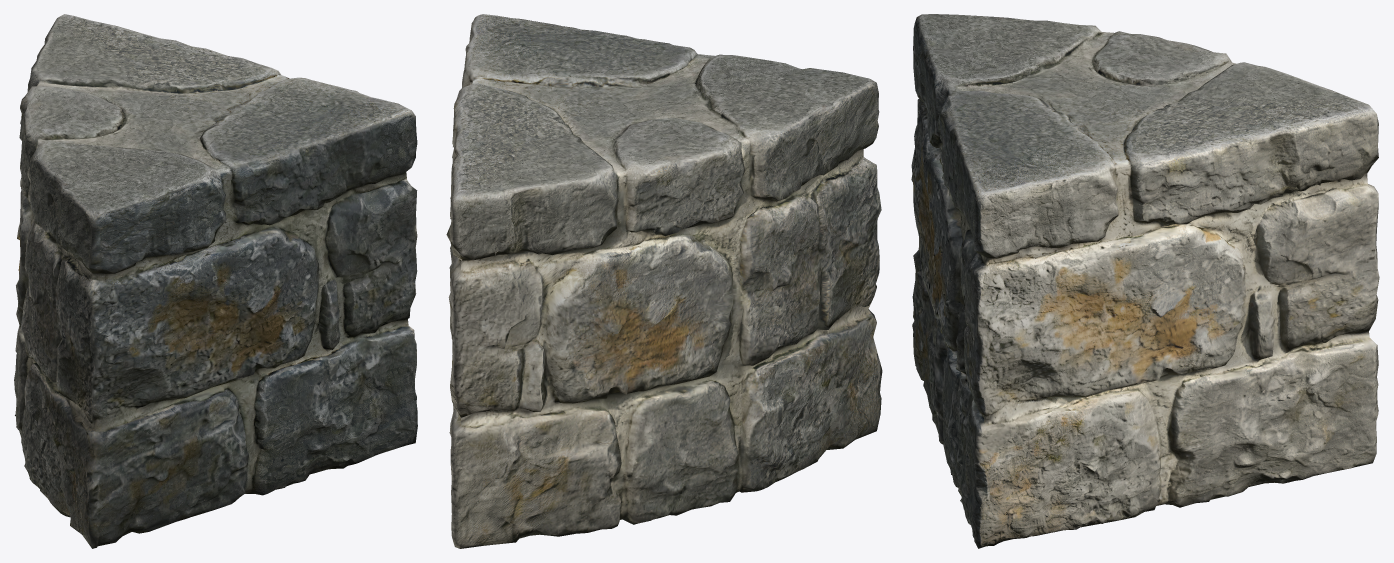
The picture shows the model from 3 angles, left to right: view 1: azimuth 30°, elevation 25°; view 2: azimuth 150°, elevation 25°; view 3: azimuth 270°, elevation 25°; orthographic projection. The views are drawn at different scales.
Parts seen in each view (by area): view 1: tripo_node_cb875e48-7069-4104-856d-ec5e47bf5641; view 2: tripo_node_cb875e48-7069-4104-856d-ec5e47bf5641; view 3: tripo_node_cb875e48-7069-4104-856d-ec5e47bf5641.
Boxes of the visible parts, x1=… form: tripo_node_cb875e48-7069-4104-856d-ec5e47bf5641: x1=14, y1=14, x2=417, y2=548; tripo_node_cb875e48-7069-4104-856d-ec5e47bf5641: x1=446, y1=14, x2=882, y2=548; tripo_node_cb875e48-7069-4104-856d-ec5e47bf5641: x1=911, y1=14, x2=1379, y2=548.
Size of the model in its own units: 0.9189 by 0.8351 by 0.9801.
1 material, 1 textured.
